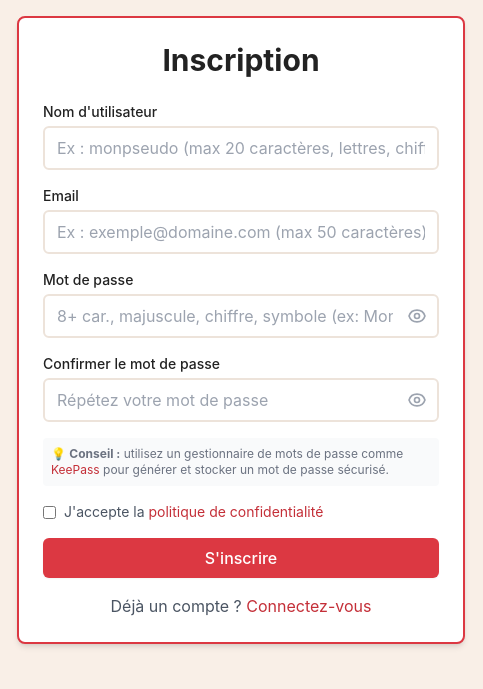
Scenario: RegisterPage (intégration) › affiche une erreur si le pseudonyme est pris
Type "alice" into the field labelled "Nom d'utilisateur" at (241, 148), box x1=43 y1=126 x2=439 y2=170
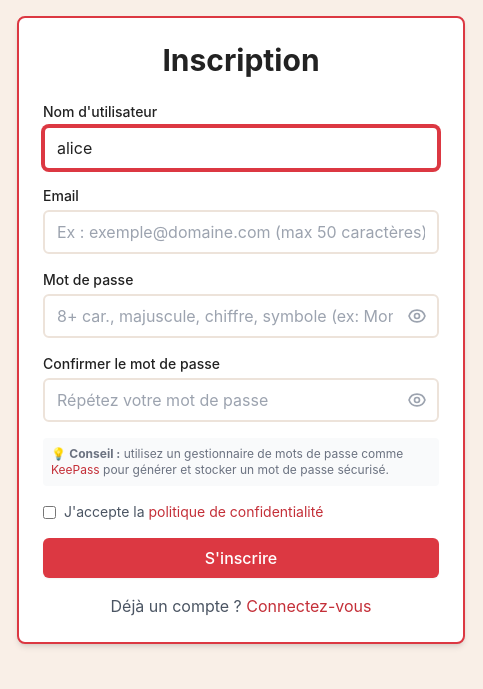
Trigger blur to fire availability check
Press Tab
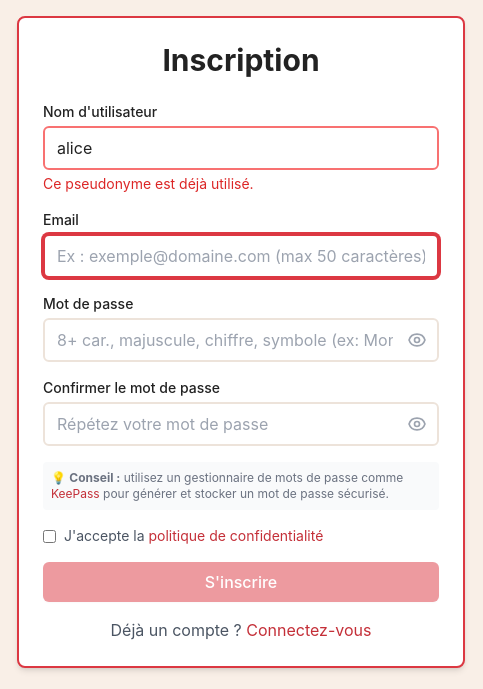
Expected: the text "Ce pseudonyme est déjà utilisé." is shown, x1=43 y1=175 x2=254 y2=192
